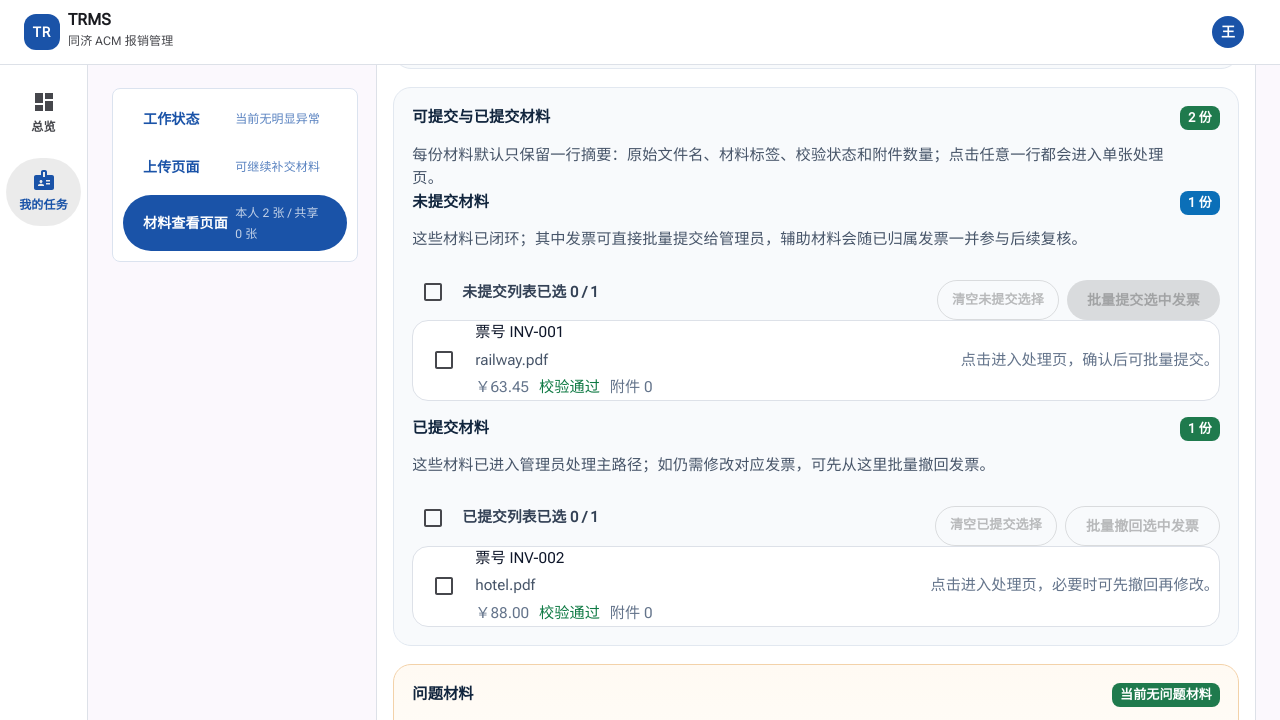
Scenario: MemberInvoiceWorkbenchPage batch submission › submits selected invoices and shows per-invoice failure reasons
The image size is (1280, 720).
(page scrolled)
Click the checkbox named "批量选择发票 INV-001". click: click(444, 360)
box: [432,348,456,372]
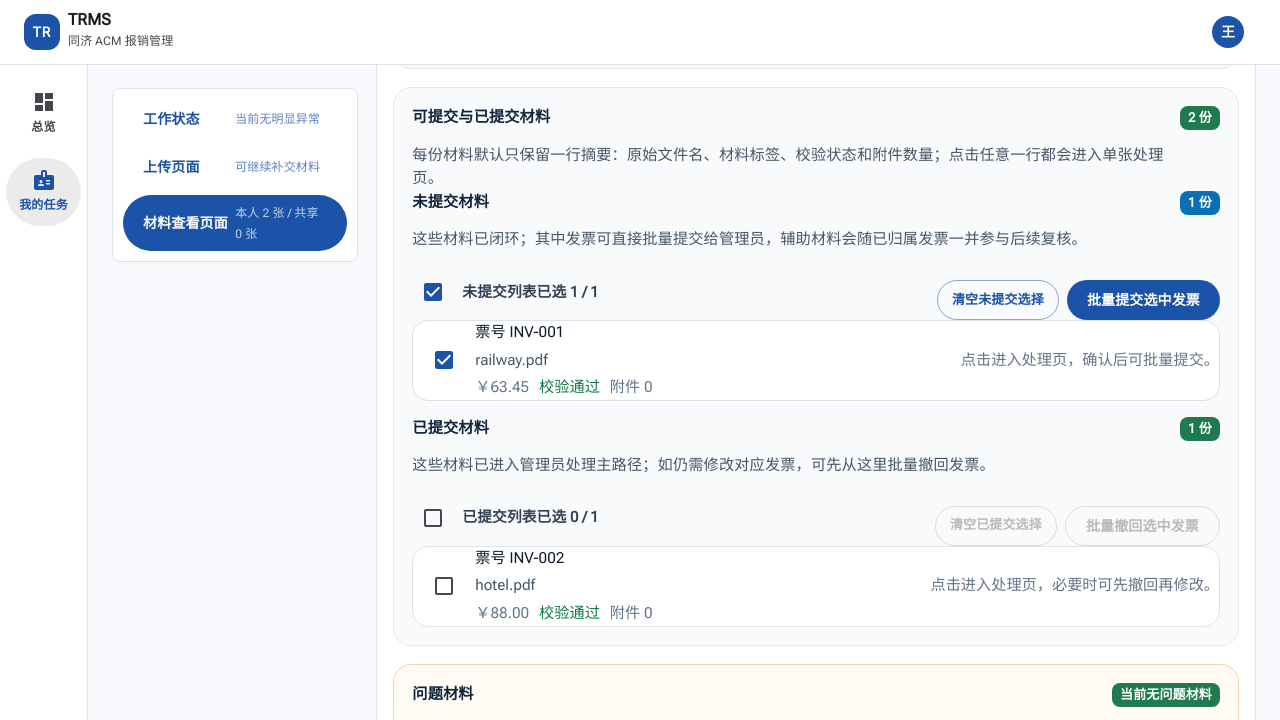
Click the button "批量提交选中发票". click: click(1143, 300)
box: [1067,280,1220,320]
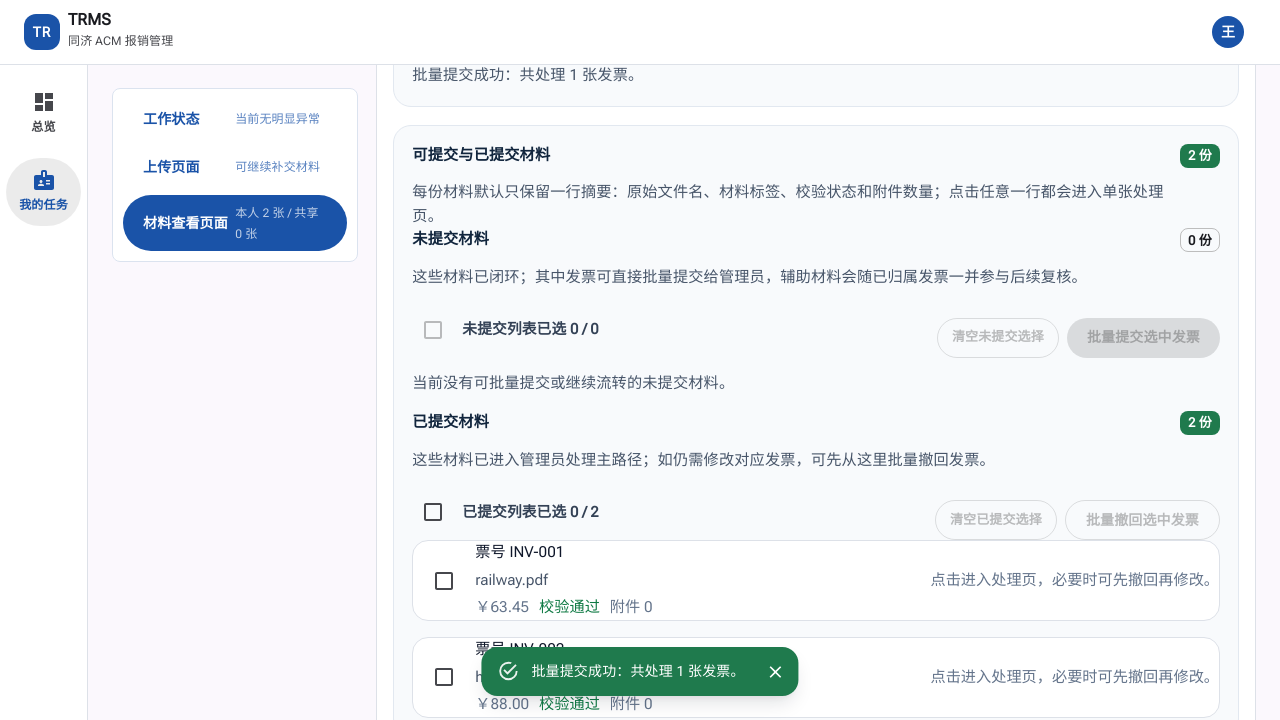
Check: the text "已提交列表已选 0 / 2" is shown, box [462,501,599,524]
Check: the text "未提交列表已选 0 / 0" is shown, box [462,318,599,341]
